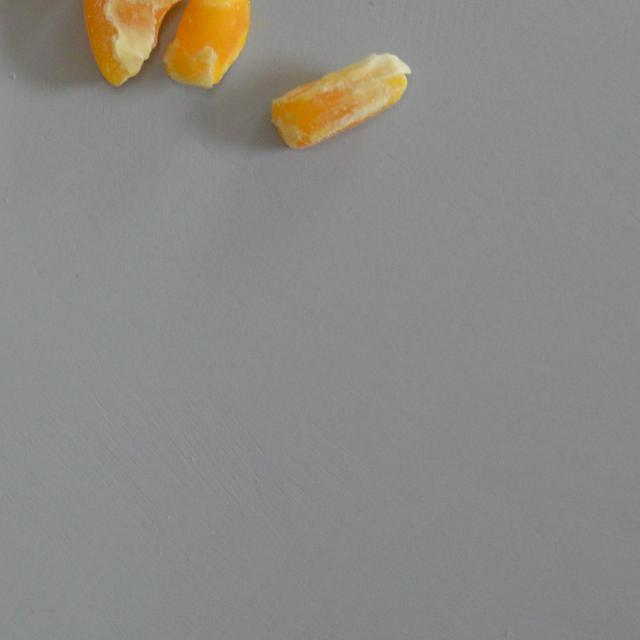dañado: (265, 43, 412, 158), (79, 0, 214, 92), (159, 0, 258, 96)
